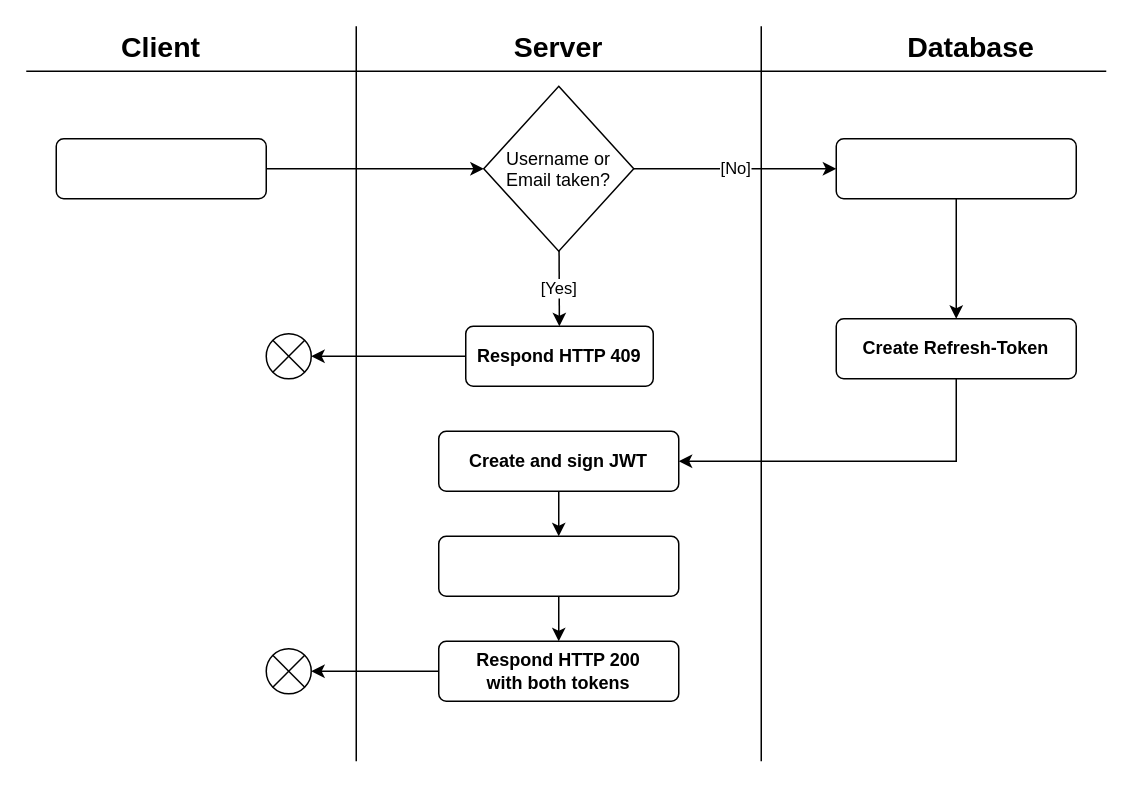
Image size: 1134x789. Some labels were removed from this diagram. Here are the shapes that lost their labels. From the top down, the box of each, then its label:
(55, 137, 266, 199): POST /auth/signup
(835, 137, 1076, 199): Create Account
(437, 535, 679, 596): Send verification Email
